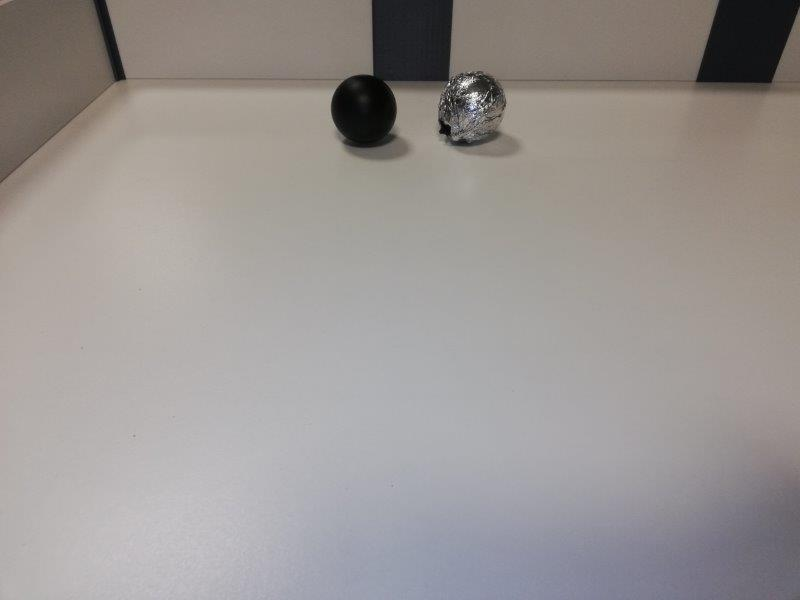bianca: (435, 71, 509, 145)
nera: (330, 74, 397, 142)
